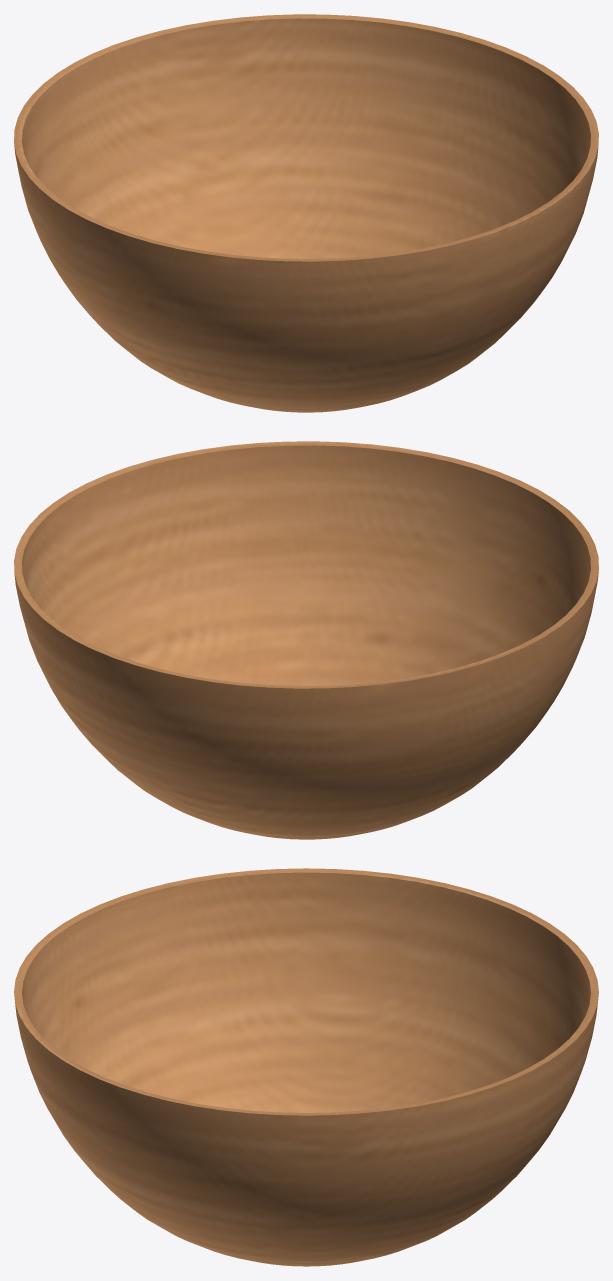
The picture shows the model from 3 angles, top to bottom: view 1: azimuth 30°, elevation 25°; view 2: azimuth 150°, elevation 25°; view 3: azimuth 270°, elevation 25°; orthographic projection.
Visible parts, largest first — view 1: 对象002; view 2: 对象002; view 3: 对象002.
Boxes of the visible parts, x1,y1,x2,y2 form: 对象002: [14, 14, 598, 412]; 对象002: [14, 441, 598, 839]; 对象002: [14, 868, 598, 1266].
Size of the model in its own units: 72.83 by 34.15 by 72.83.
1 material, 1 textured.
